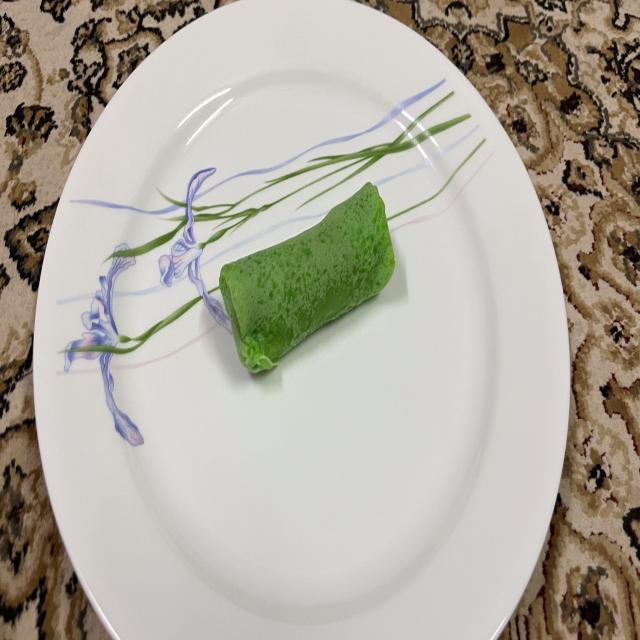Kuih-Ketayap: (219, 182, 395, 373)
